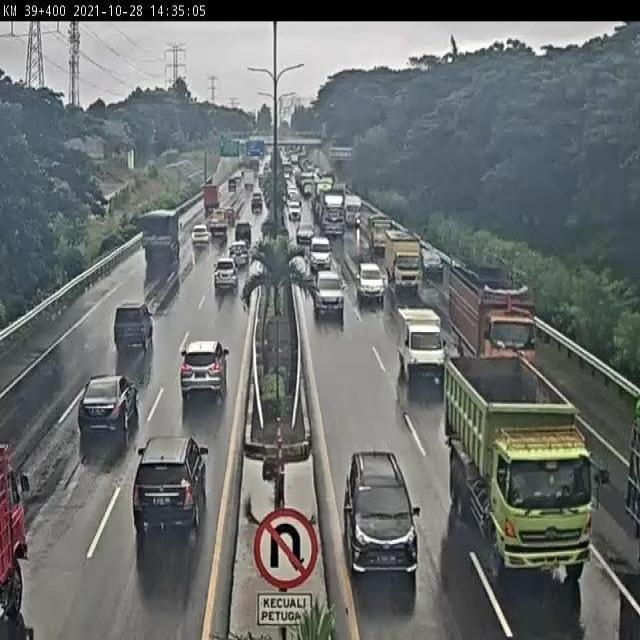car: (126, 423, 220, 563), (341, 450, 425, 582), (65, 368, 149, 455), (165, 329, 233, 415), (390, 303, 454, 392), (89, 294, 163, 362), (312, 264, 347, 325), (353, 258, 384, 310), (203, 264, 239, 305), (422, 239, 444, 289), (305, 230, 334, 266), (223, 249, 248, 280), (191, 224, 212, 255), (229, 227, 252, 251)
truck: (442, 355, 603, 593), (442, 256, 548, 373), (0, 429, 59, 636), (128, 207, 183, 281), (378, 229, 418, 295)
